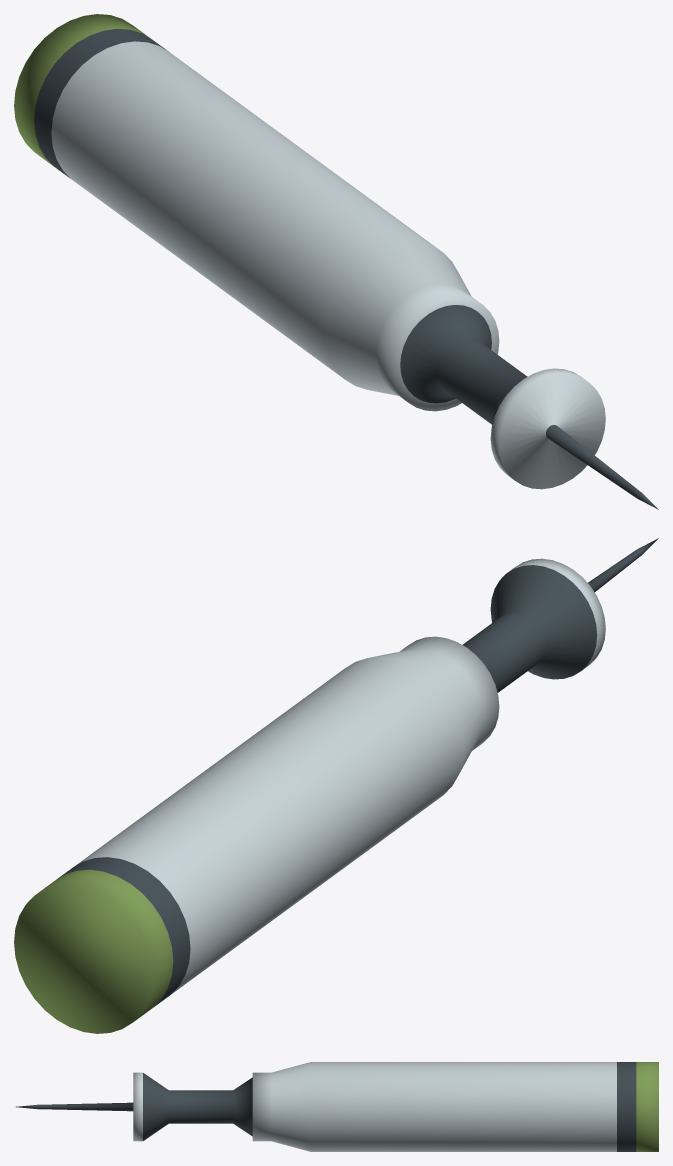
The model's file is tank_arrow_round_display.glb.
The picture shows the model from 3 angles, top to bottom: view 1: azimuth 30°, elevation 25°; view 2: azimuth 150°, elevation 25°; view 3: azimuth 270°, elevation 25°; orthographic projection. The views are drawn at different scales.
Parts seen in each view (by area): view 1: AMMO_MESH.045; view 2: AMMO_MESH.045; view 3: AMMO_MESH.045.
Part boxes in pixels (bbox=[...]): AMMO_MESH.045: bbox=[14, 14, 658, 509]; AMMO_MESH.045: bbox=[14, 538, 658, 1033]; AMMO_MESH.045: bbox=[16, 1062, 658, 1151].
Bounding box in the file's own units: 0.1466 × 0.1466 × 1.05.
